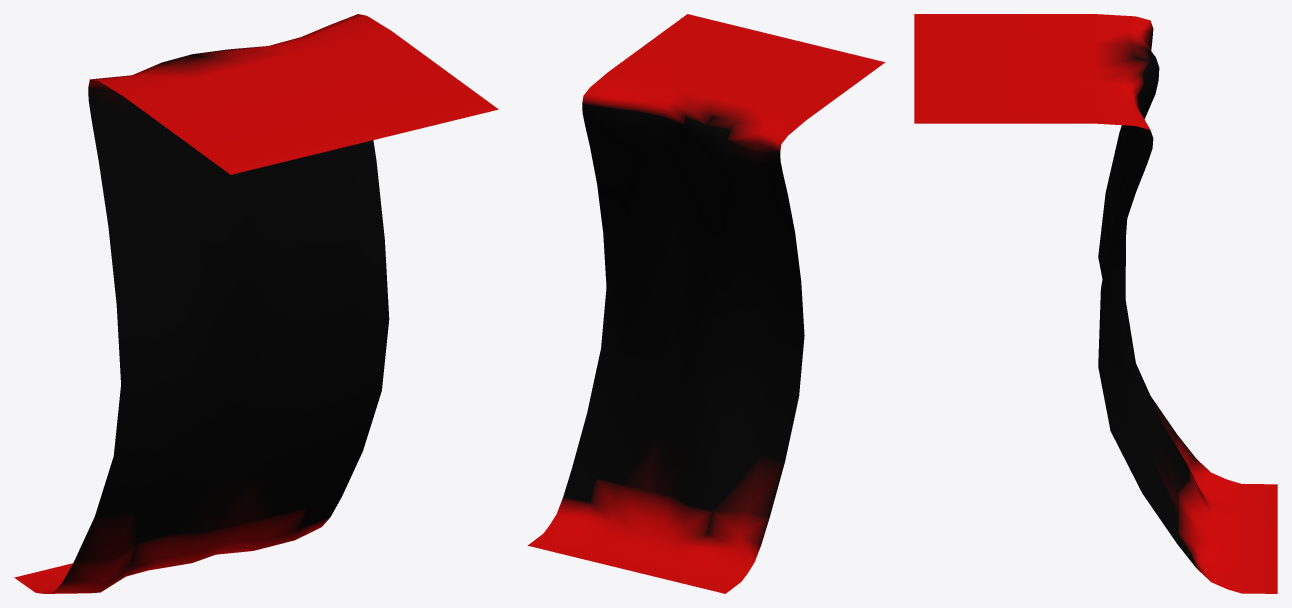
The model's file is GroundCliff00A 2M Background.fbx.
3 renders of one model, left to right at view 1: azimuth 30°, elevation 25°; view 2: azimuth 150°, elevation 25°; view 3: azimuth 270°, elevation 25°, orthographic. The views are drawn at different scales.
Visible parts, largest first — view 1: GroundCliff00A 2M Background; view 2: GroundCliff00A 2M Background; view 3: GroundCliff00A 2M Background.
Boxes of the visible parts, x1,y1,x2,y2 form: GroundCliff00A 2M Background: (14, 14, 498, 593); GroundCliff00A 2M Background: (528, 14, 884, 593); GroundCliff00A 2M Background: (914, 14, 1277, 593).
Bounding box in the file's own units: 1 × 2 × 1.4.
